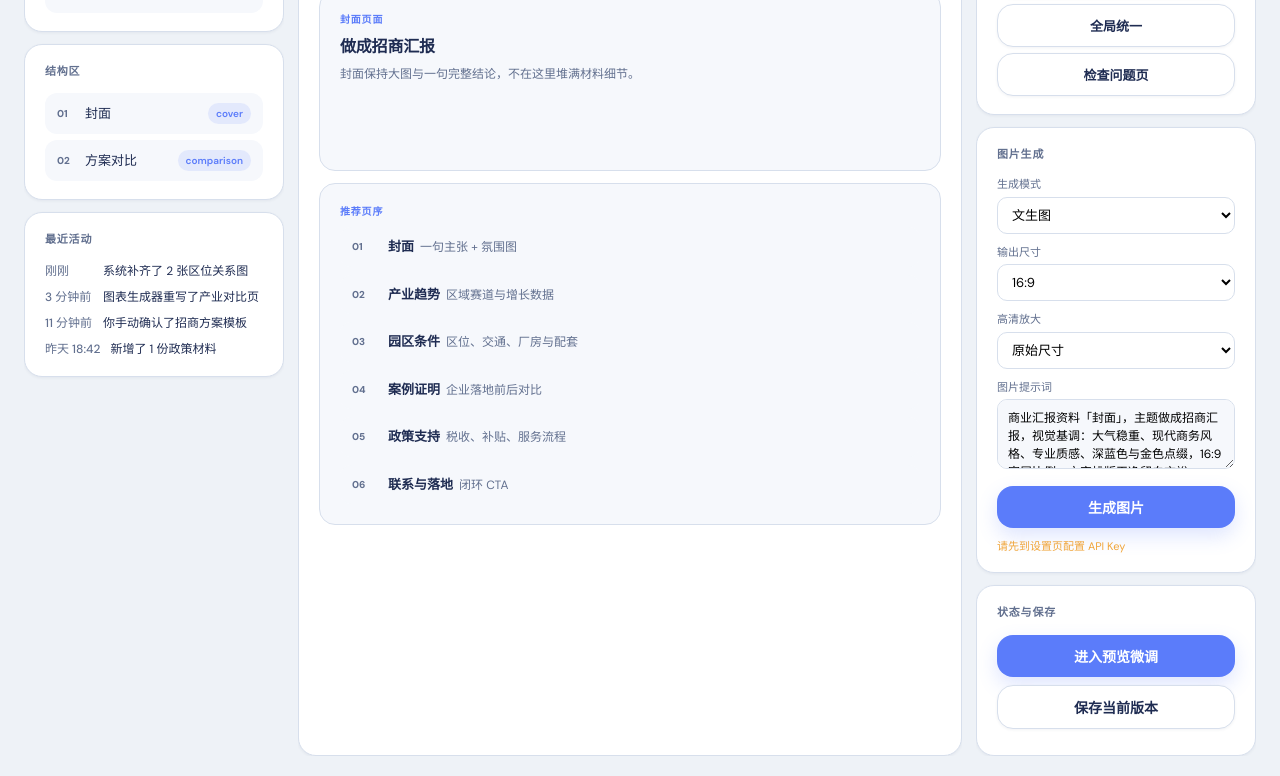
it: shows feedback after saving current variants
(page scrolled)
Click the button "保存当前版本" at (1116, 706), box top-left (997, 684), bottom-right (1235, 728)
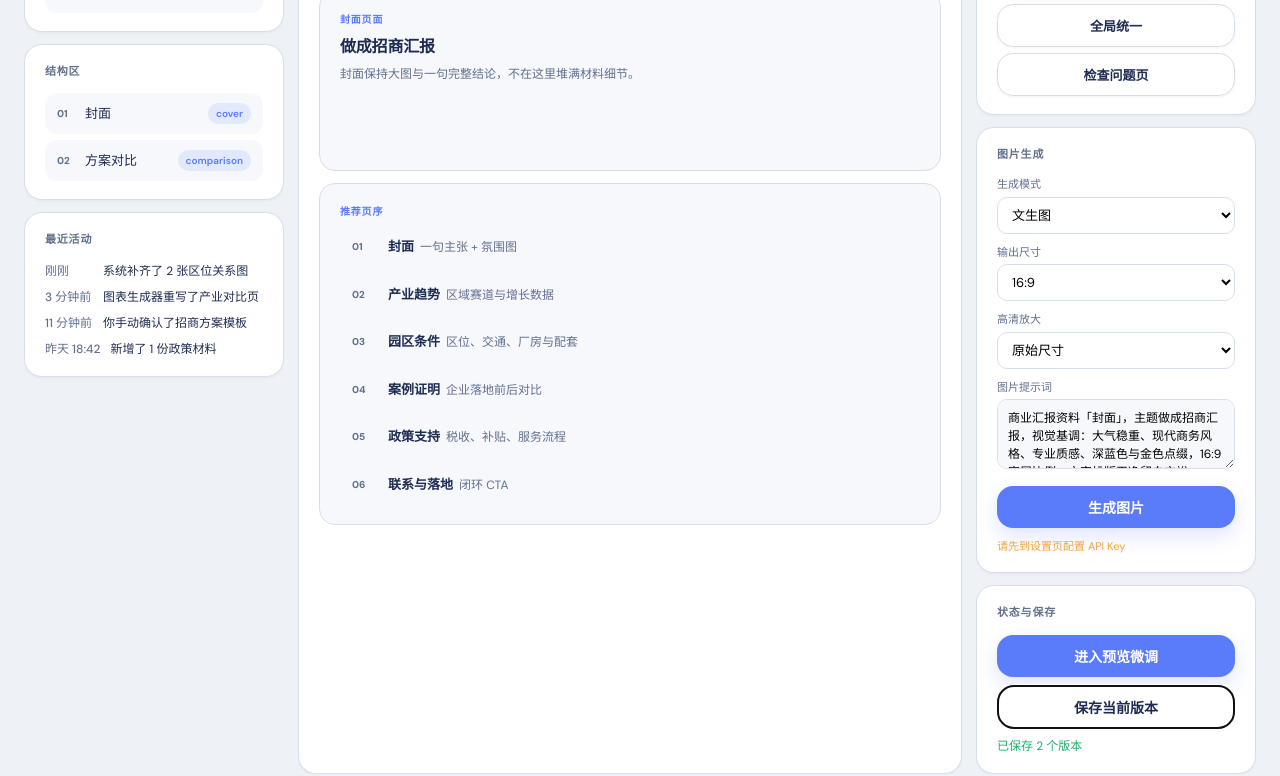
expect the text "已保存 2 个版本" is shown: met, box top-left (997, 738), bottom-right (1082, 754)
